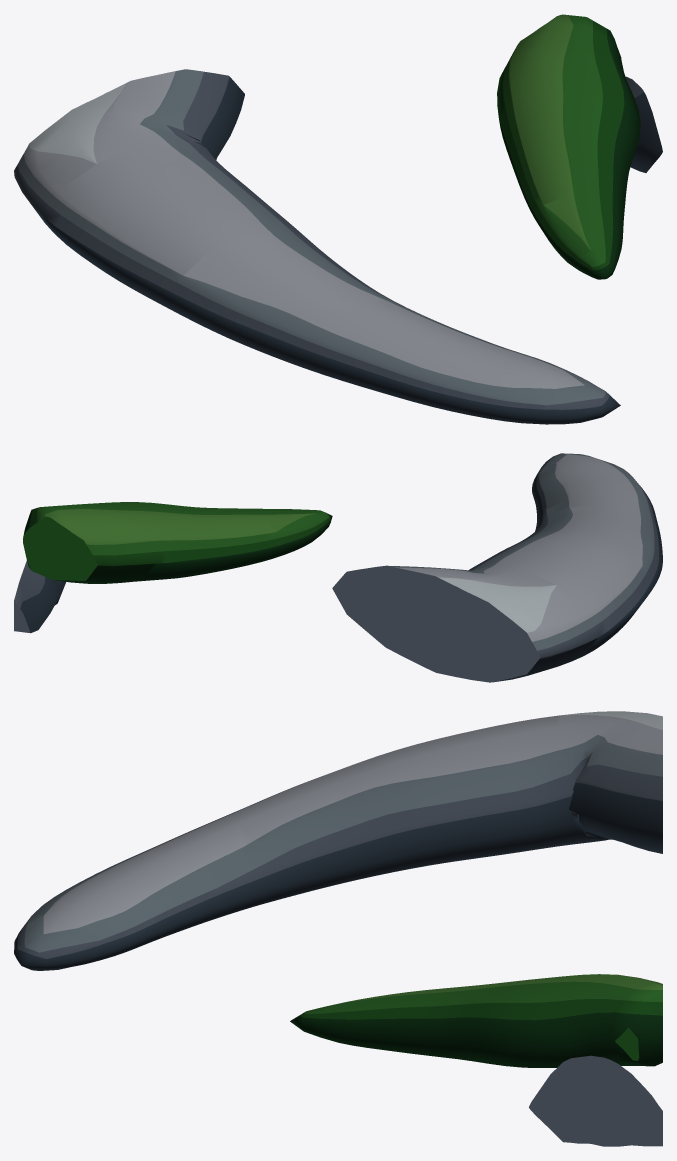
The model's file is torm_beetle_bl.glb.
3 views of the same model, one above another, from view 1: azimuth 30°, elevation 25°; view 2: azimuth 150°, elevation 25°; view 3: azimuth 270°, elevation 25° (orthographic). The views are drawn at different scales.
Parts seen in each view (by area): view 1: torm_beetle_bl; view 2: torm_beetle_bl; view 3: torm_beetle_bl.
Boxes of the visible parts, x1,y1,x2,y2 form: torm_beetle_bl: (14,14,662,424); torm_beetle_bl: (14,453,662,682); torm_beetle_bl: (14,711,662,1146).
Size of the model in its own units: 20.7 by 5.77 by 18.77.
